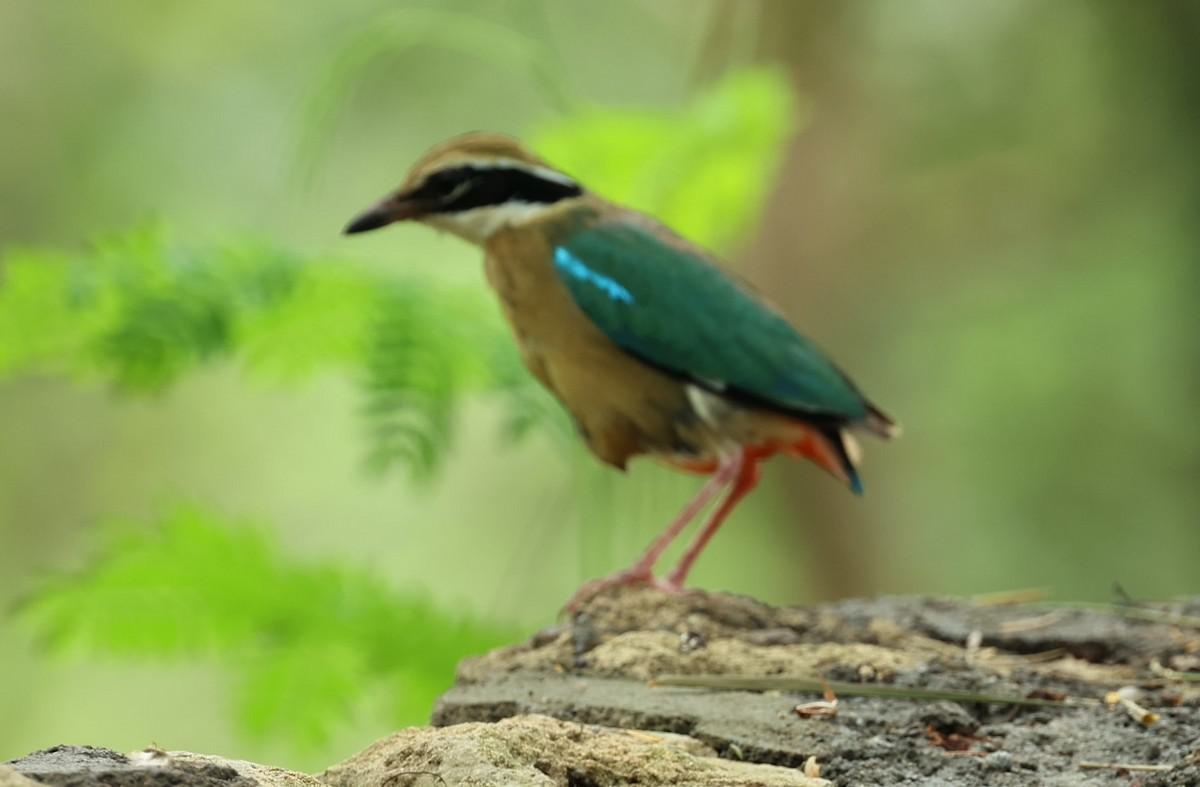pitta: (366, 90, 847, 635)
